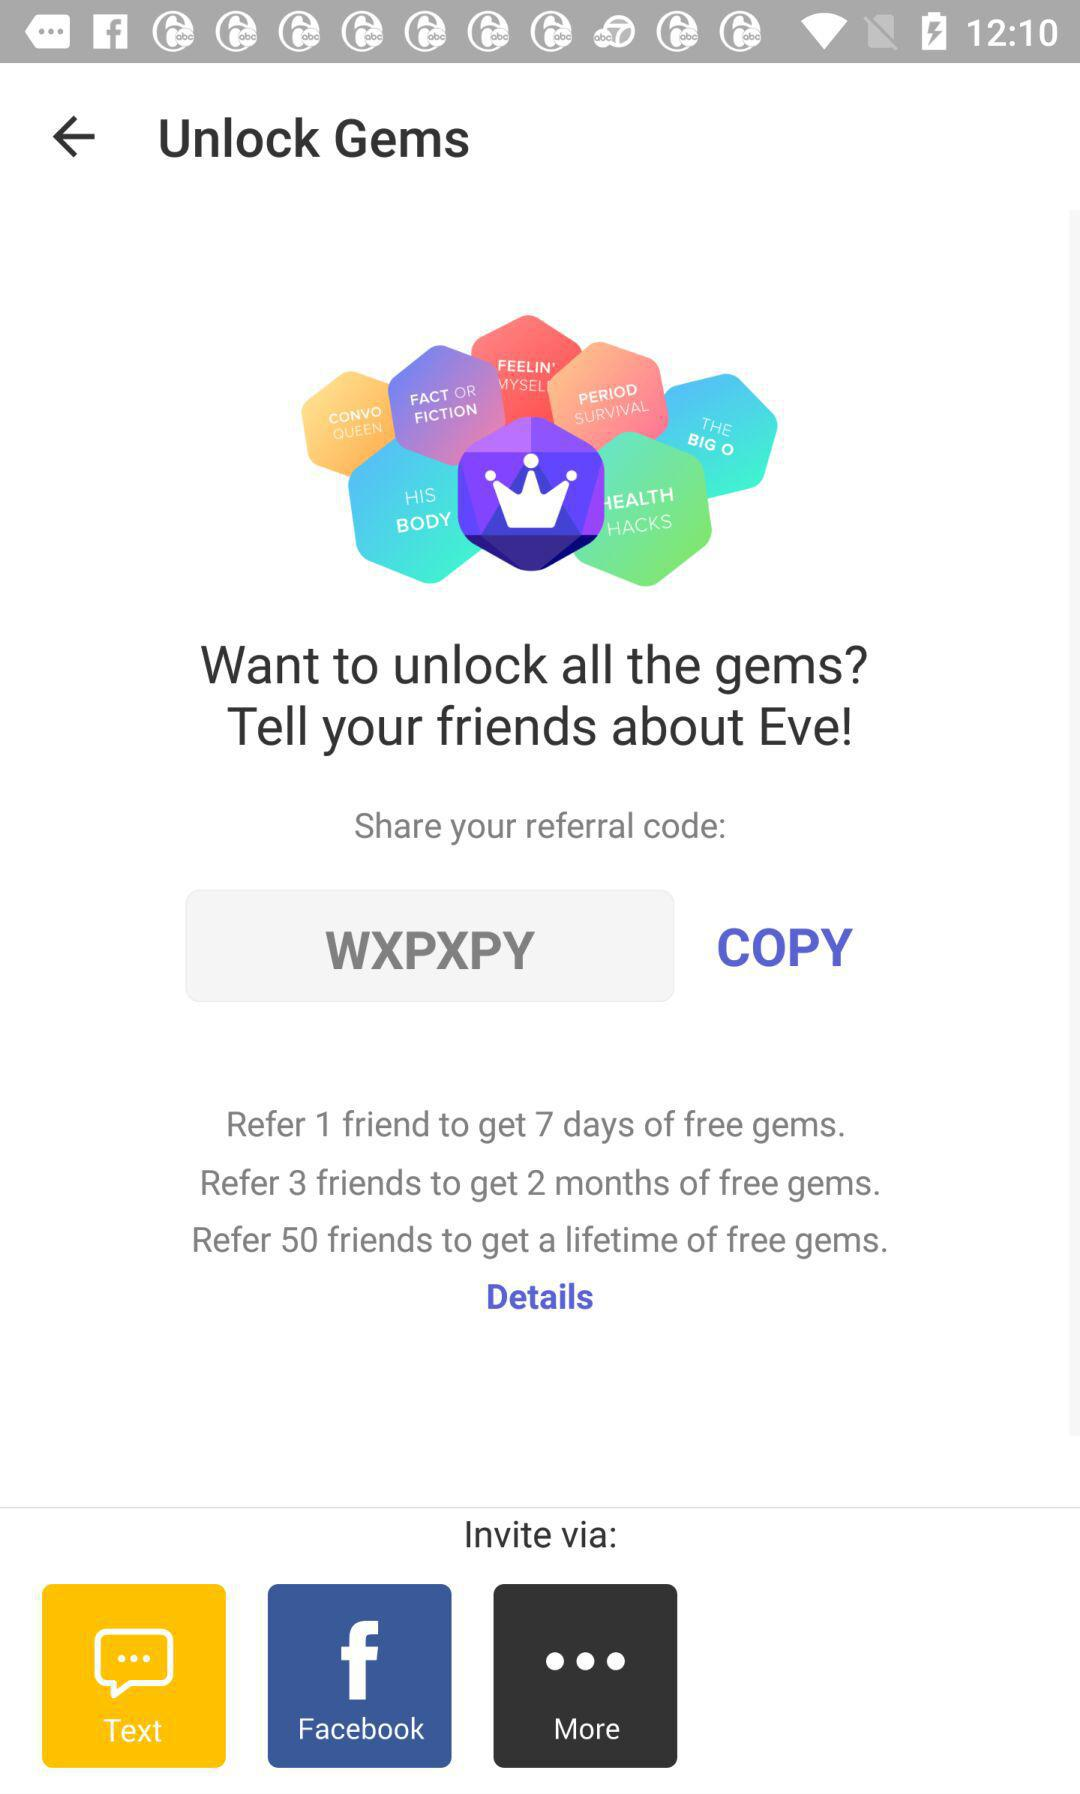Icon: (268, 1584, 454, 1768), (53, 115, 97, 160)
Image: (301, 315, 779, 588), (493, 1584, 679, 1768), (42, 1583, 227, 1768)
Text: (193, 1108, 888, 1261), (200, 642, 869, 759), (355, 809, 726, 848), (160, 117, 470, 159), (717, 926, 855, 969), (466, 1518, 618, 1551), (487, 1280, 594, 1311)
TextButton: (184, 889, 676, 1005)
UpperTaskBar: (1, 1, 1080, 64)
